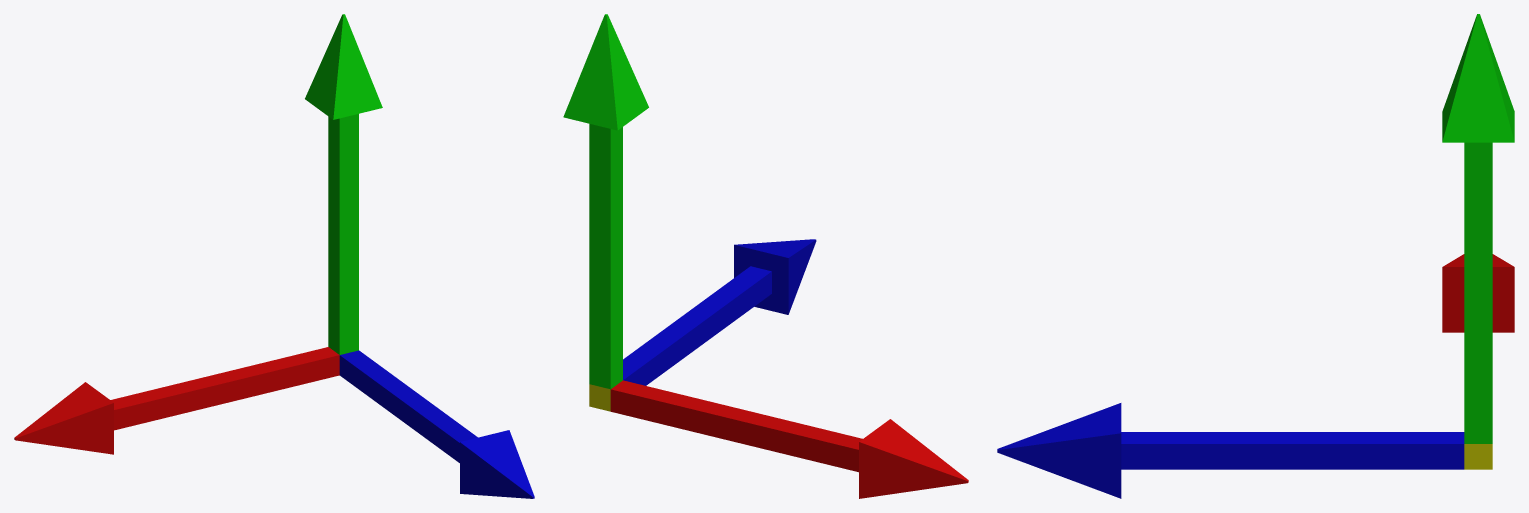
File: MoveGizmo.fbx
The picture shows the model from 3 angles, left to right: view 1: azimuth 30°, elevation 25°; view 2: azimuth 150°, elevation 25°; view 3: azimuth 270°, elevation 25°; orthographic projection. The views are drawn at different scales.
Visible parts, largest first — view 1: GizmoYAxis, GizmoXAxis, GizmoZAxis; view 2: GizmoYAxis, GizmoXAxis, GizmoZAxis, GizmoCenter; view 3: GizmoZAxis, GizmoYAxis, GizmoXAxis, GizmoCenter.
Boxes of the visible parts, x1,y1,x2,y2 form: GizmoYAxis: (305,14,382,354); GizmoXAxis: (14,347,339,454); GizmoZAxis: (339,350,534,498); GizmoYAxis: (563,14,648,389); GizmoXAxis: (610,380,968,498); GizmoZAxis: (623,239,816,385); GizmoCenter: (589,384,610,411); GizmoZAxis: (997,403,1464,498); GizmoYAxis: (1442,14,1514,443); GizmoXAxis: (1442,254,1514,332); GizmoCenter: (1464,444,1492,469).
Bounding box in the file's own units: 18.2 × 18.2 × 18.2.
